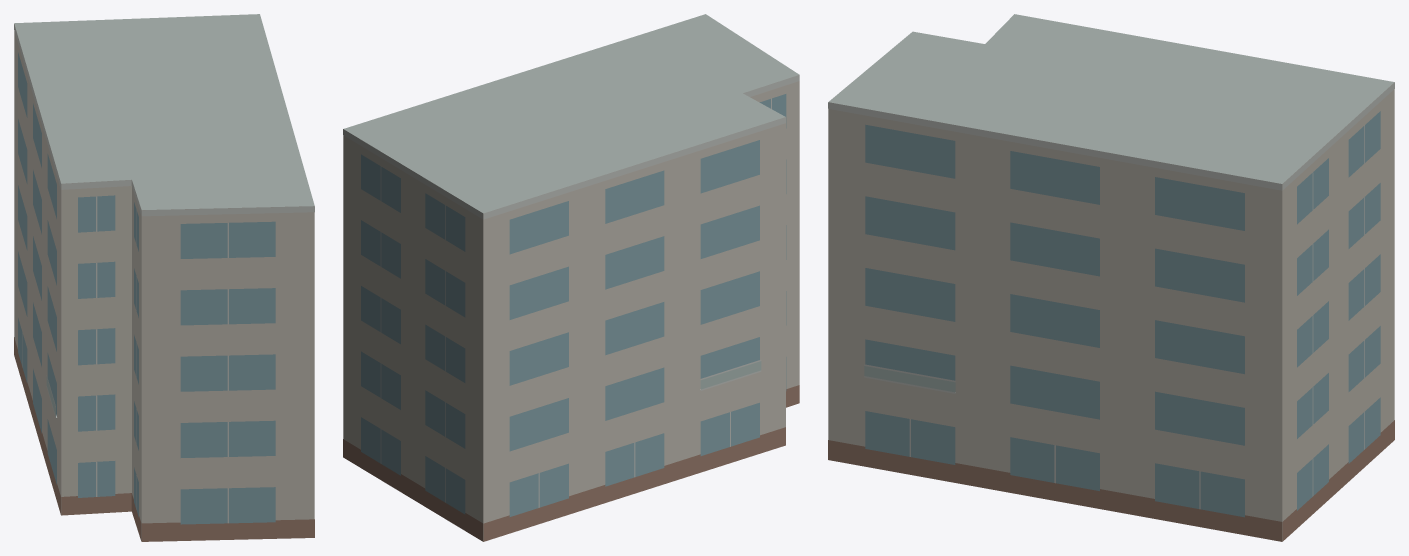
The model's file is survey-upis-32952894.glb.
3 views of the same model, side by side, from view 1: azimuth 30°, elevation 25°; view 2: azimuth 150°, elevation 25°; view 3: azimuth 270°, elevation 25° (orthographic). The views are drawn at different scales.
Parts seen in each view (by area): view 1: survey-upis-32952894.tmp; view 2: survey-upis-32952894.tmp; view 3: survey-upis-32952894.tmp.
Boxes of the visible parts, x1,y1,x2,y2 form: survey-upis-32952894.tmp: (14, 14, 314, 541); survey-upis-32952894.tmp: (343, 14, 799, 541); survey-upis-32952894.tmp: (828, 14, 1394, 541).
Size of the model in its own units: 13.26 by 13 by 18.66.
